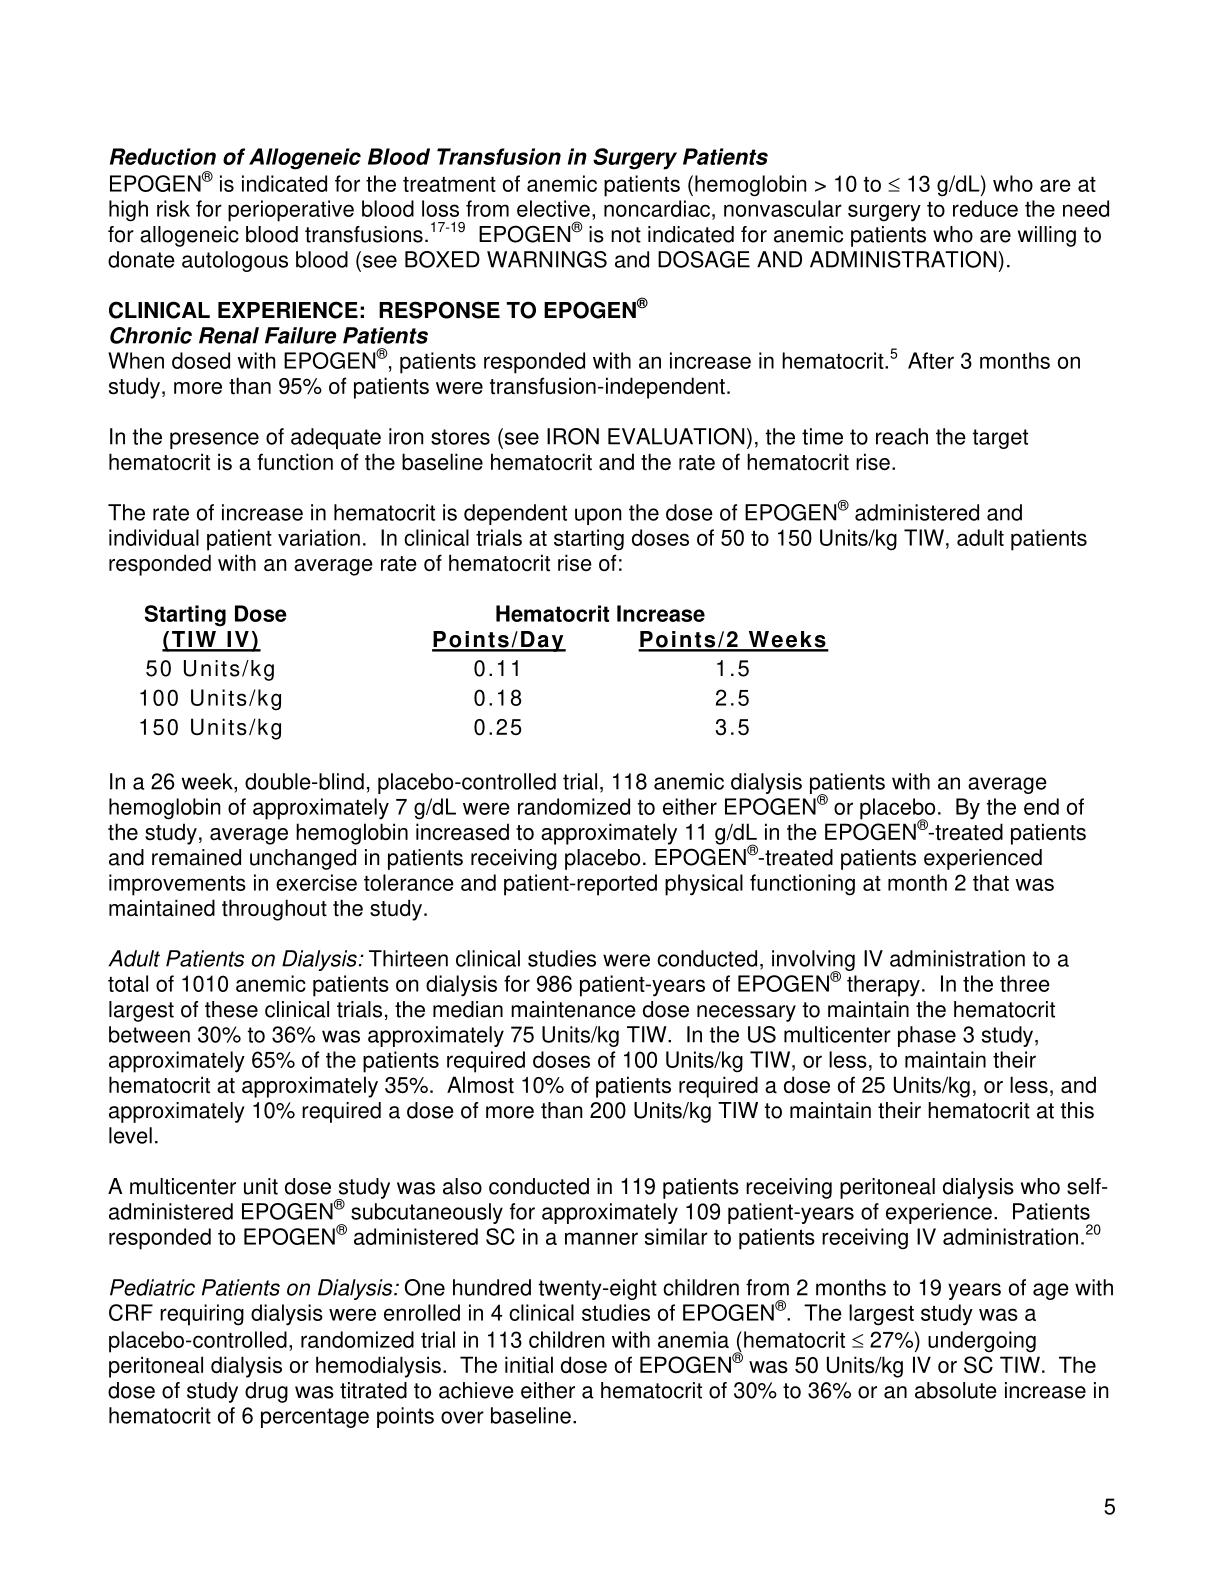nolines: (138, 600, 829, 739)
